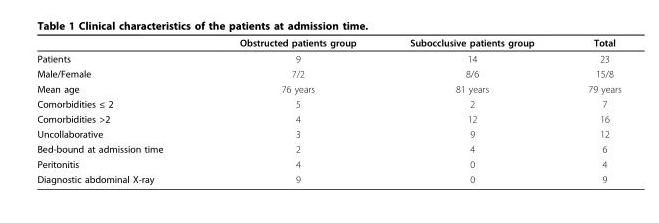table: (36, 36, 620, 184)
table column: (200, 36, 382, 184), (382, 36, 560, 184), (36, 36, 200, 184), (560, 36, 620, 184)
table column header: (36, 36, 620, 50)
table row: (36, 80, 620, 96), (36, 50, 620, 65), (36, 65, 620, 80), (36, 96, 620, 111), (36, 111, 620, 126), (36, 126, 620, 141), (36, 141, 620, 156), (36, 156, 620, 171), (36, 36, 620, 50), (36, 171, 620, 184)
